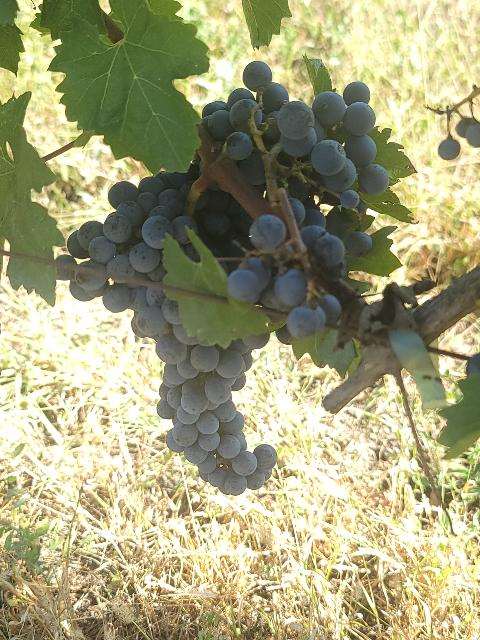grapes: (56, 160, 278, 495), (202, 61, 390, 220), (229, 256, 341, 335), (295, 200, 345, 270)
